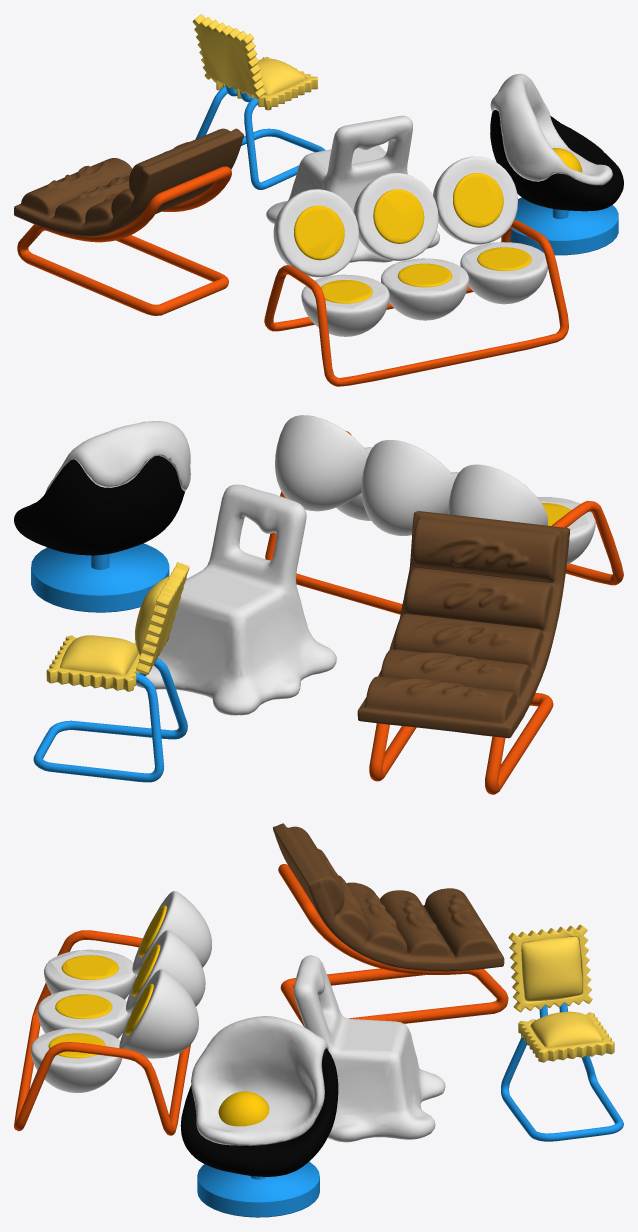
3 renders of one model, top to bottom at view 1: azimuth 30°, elevation 25°; view 2: azimuth 150°, elevation 25°; view 3: azimuth 270°, elevation 25°, orthographic. The views are drawn at different scales.
Visible parts, largest first — view 1: Cube.006; view 2: Cube.006; view 3: Cube.006.
Boxes of the visible parts, x1,y1,x2,y2 form: Cube.006: (14,14,623,386); Cube.006: (14,415,623,794); Cube.006: (14,823,623,1217).
Bounding box in the file's own units: 3.98 × 1.17 × 3.98.
